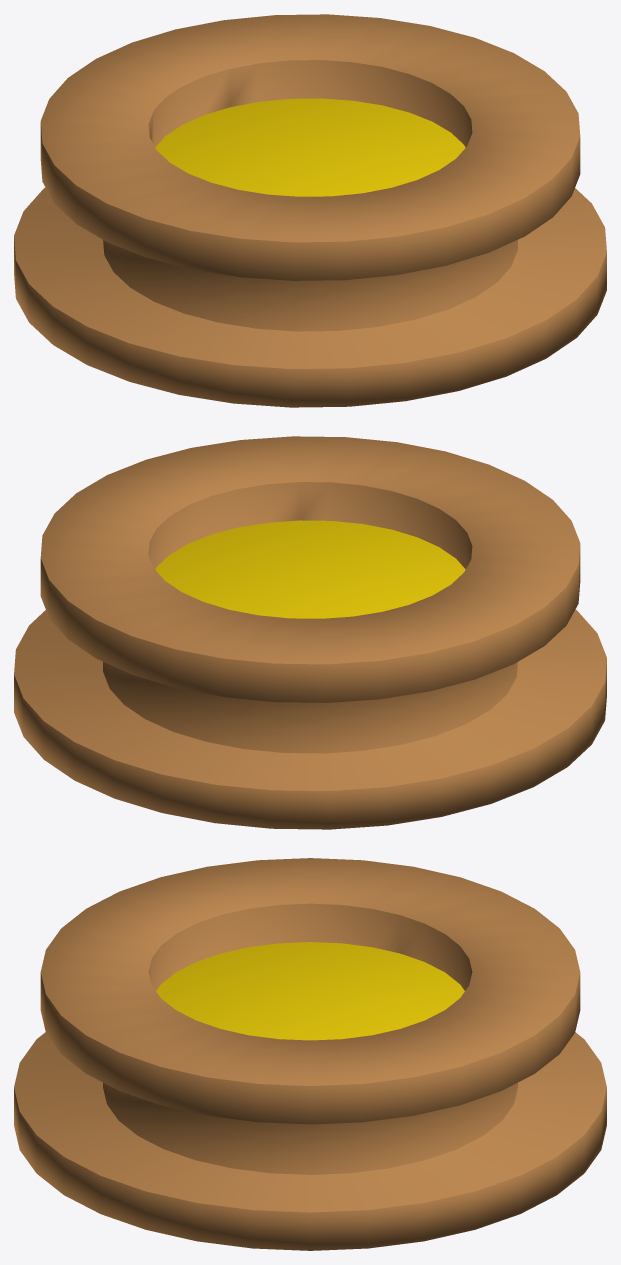
File: InfusionFountain.fbx
3 renders of one model, top to bottom at view 1: azimuth 30°, elevation 25°; view 2: azimuth 150°, elevation 25°; view 3: azimuth 270°, elevation 25°, orthographic.
Visible parts, largest first — view 1: Stone, Liquid; view 2: Stone, Liquid; view 3: Stone, Liquid.
Part boxes in pixels (x1,y1,x2,y2): Stone: [14, 14, 606, 407]; Liquid: [155, 98, 465, 196]; Stone: [14, 436, 606, 829]; Liquid: [155, 520, 465, 618]; Stone: [14, 858, 606, 1250]; Liquid: [156, 942, 464, 1040].
Size of the model in its own units: 140 by 40 by 140.
